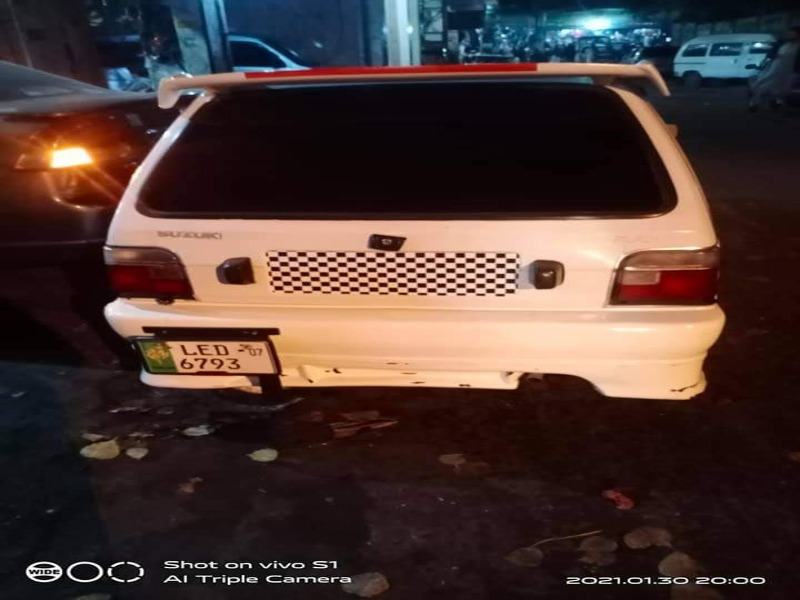License Plate: (128, 331, 286, 385)
